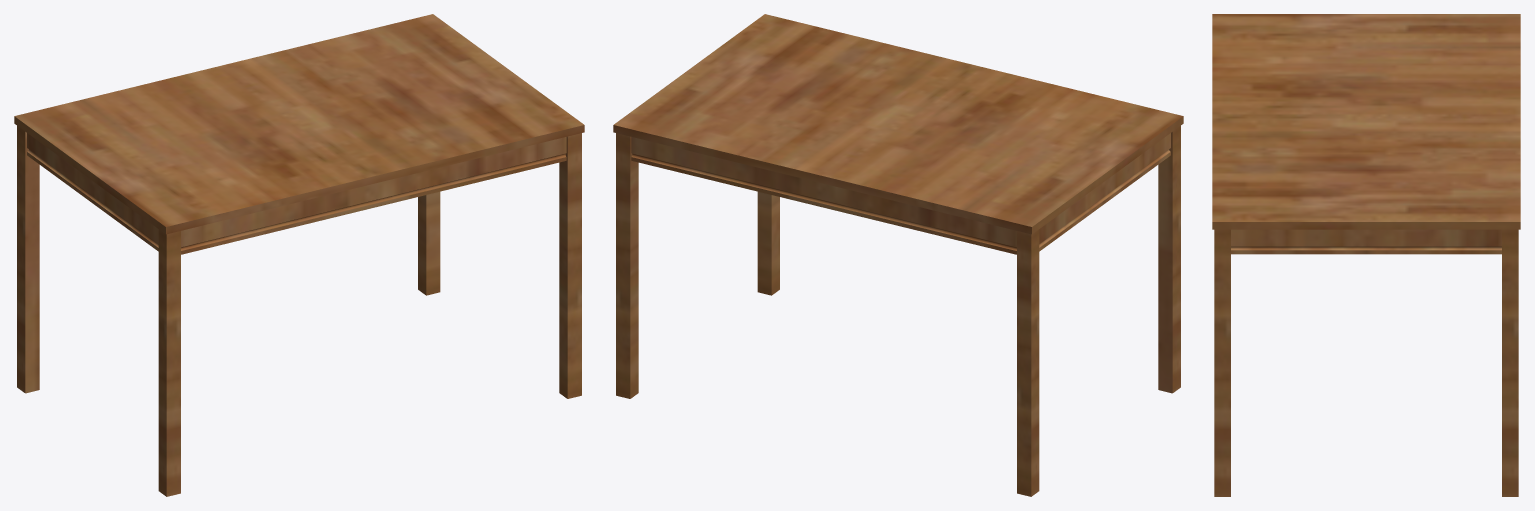
Rendered from JokkmokkTable.dae.
3 views of the same model, side by side, from view 1: azimuth 30°, elevation 25°; view 2: azimuth 150°, elevation 25°; view 3: azimuth 270°, elevation 25° (orthographic).
Parts seen in each view (by area): view 1: JokkmokkTable; view 2: JokkmokkTable; view 3: JokkmokkTable.
Boxes of the visible parts, x1=… form: JokkmokkTable: x1=14, y1=14, x2=584, y2=496; JokkmokkTable: x1=613, y1=14, x2=1183, y2=496; JokkmokkTable: x1=1212, y1=14, x2=1520, y2=496.
Size of the model in its own units: 1.4 by 0.8796 by 0.8677.
